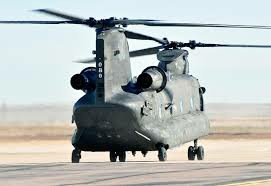chinook: (29, 9, 254, 163)
